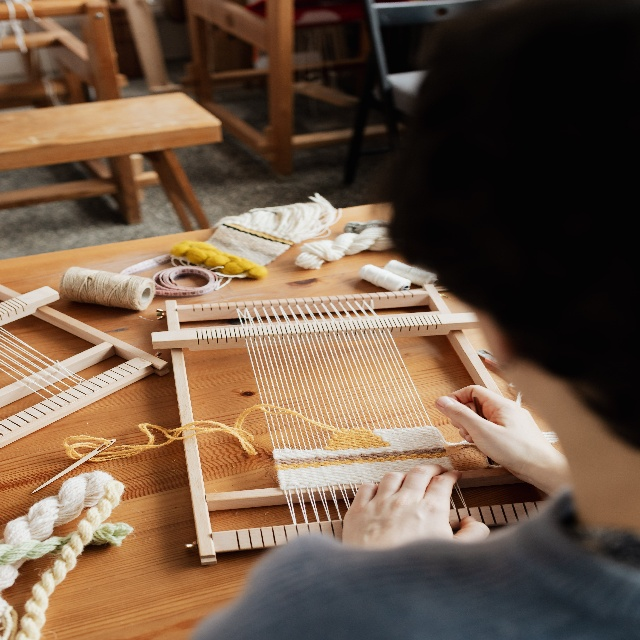Sin_guantes: (434, 384, 553, 491), (342, 464, 491, 548)
